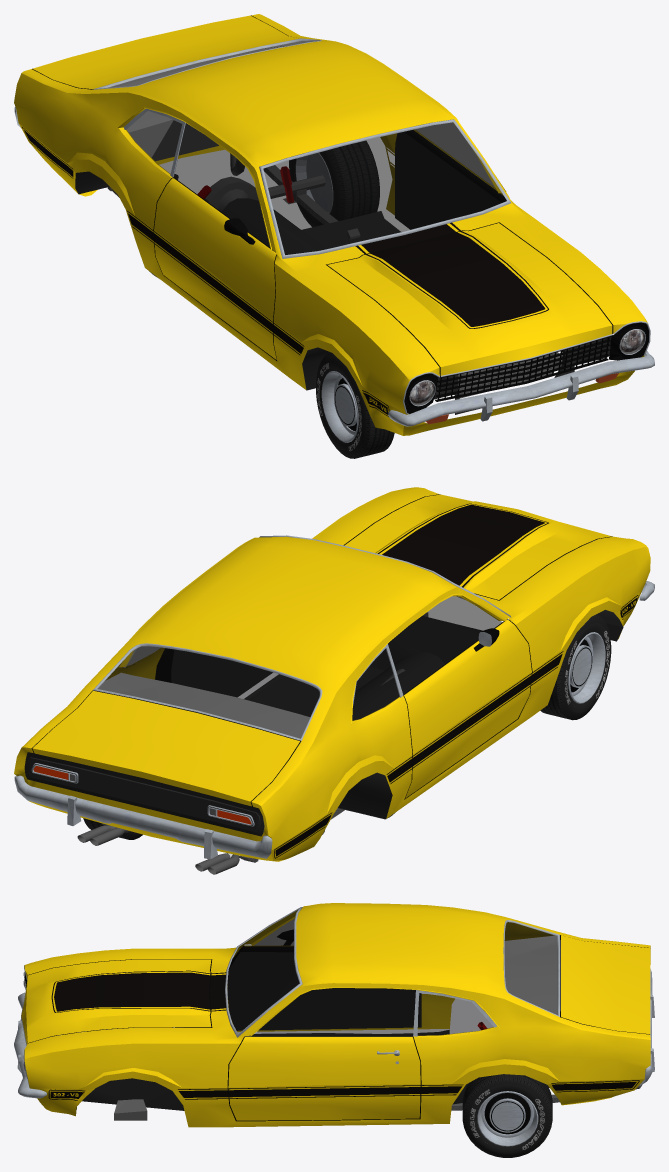
The model's file is maverick.FBX.
The picture shows the model from 3 angles, top to bottom: view 1: azimuth 30°, elevation 25°; view 2: azimuth 150°, elevation 25°; view 3: azimuth 270°, elevation 25°; orthographic projection. The views are drawn at different scales.
Parts seen in each view (by area): view 1: chassis_hi_001, bonnet_ok_001, parabrisa-Mvk_001, door_rf_ok_003, door_rf_ok_001, boot_ok_001, interior01_001, Frong_Bumper, Rear_Tyre, Front_Grid, mechanical_001, portamalas_001 (+9 smaller); view 2: chassis_hi_001, door_rf_ok_003, boot_ok_001, bonnet_ok_001, vigia_Mvk_001, interior01_001, Rear_Grid, Bump, portamalas_001, door_rf_ok_001, Front_Tyre, chassis_02_001 (+4 smaller); view 3: chassis_hi_001, door_rf_ok_001, bonnet_ok_001, door_rf_ok_003, boot_ok_001, parabrisa-Mvk_001, vigia_Mvk_001, Rear_Tyre, portamalas_001, Rear_Wheel, chassis_02_001, mechanical_001 (+3 smaller).
Part boxes in pixels (box(x1,y1,x2,y2)): chassis_hi_001: box(14, 14, 650, 435); bonnet_ok_001: box(326, 222, 613, 377); parabrisa-Mvk_001: box(259, 119, 511, 258); door_rf_ok_003: box(153, 123, 276, 360); door_rf_ok_001: box(395, 122, 506, 229); boot_ok_001: box(32, 15, 299, 89); interior01_001: box(149, 198, 400, 278); Frong_Bumper: box(388, 351, 654, 426); Rear_Tyre: box(289, 140, 379, 227); Front_Grid: box(435, 336, 611, 401); mechanical_001: box(107, 165, 562, 368); portamalas_001: box(116, 41, 310, 161); chassis_hi_001: box(14, 487, 650, 861); door_rf_ok_003: box(388, 596, 532, 799); boot_ok_001: box(31, 690, 301, 806); bonnet_ok_001: box(343, 494, 612, 600); vigia_Mvk_001: box(93, 643, 322, 740); interior01_001: box(244, 616, 482, 819); Rear_Grid: box(24, 752, 264, 836); Bump: box(14, 775, 272, 859); portamalas_001: box(98, 672, 309, 830); door_rf_ok_001: box(155, 648, 272, 697); Front_Tyre: box(540, 614, 611, 720); chassis_02_001: box(338, 609, 623, 818); chassis_hi_001: box(24, 903, 650, 1127); door_rf_ok_001: box(227, 988, 421, 1121); bonnet_ok_001: box(21, 959, 212, 1045); door_rf_ok_003: box(227, 919, 421, 1030); boot_ok_001: box(560, 935, 650, 1034); parabrisa-Mvk_001: box(225, 907, 302, 1037); vigia_Mvk_001: box(503, 920, 560, 1016); Rear_Tyre: box(462, 1074, 552, 1157); portamalas_001: box(504, 935, 557, 1014); Rear_Wheel: box(477, 1091, 538, 1146); chassis_02_001: box(76, 1078, 549, 1110); mechanical_001: box(114, 1022, 559, 1120).
Bounding box in the file's own units: 1.7 × 1.35 × 4.42.
21 materials, 6 textured.
